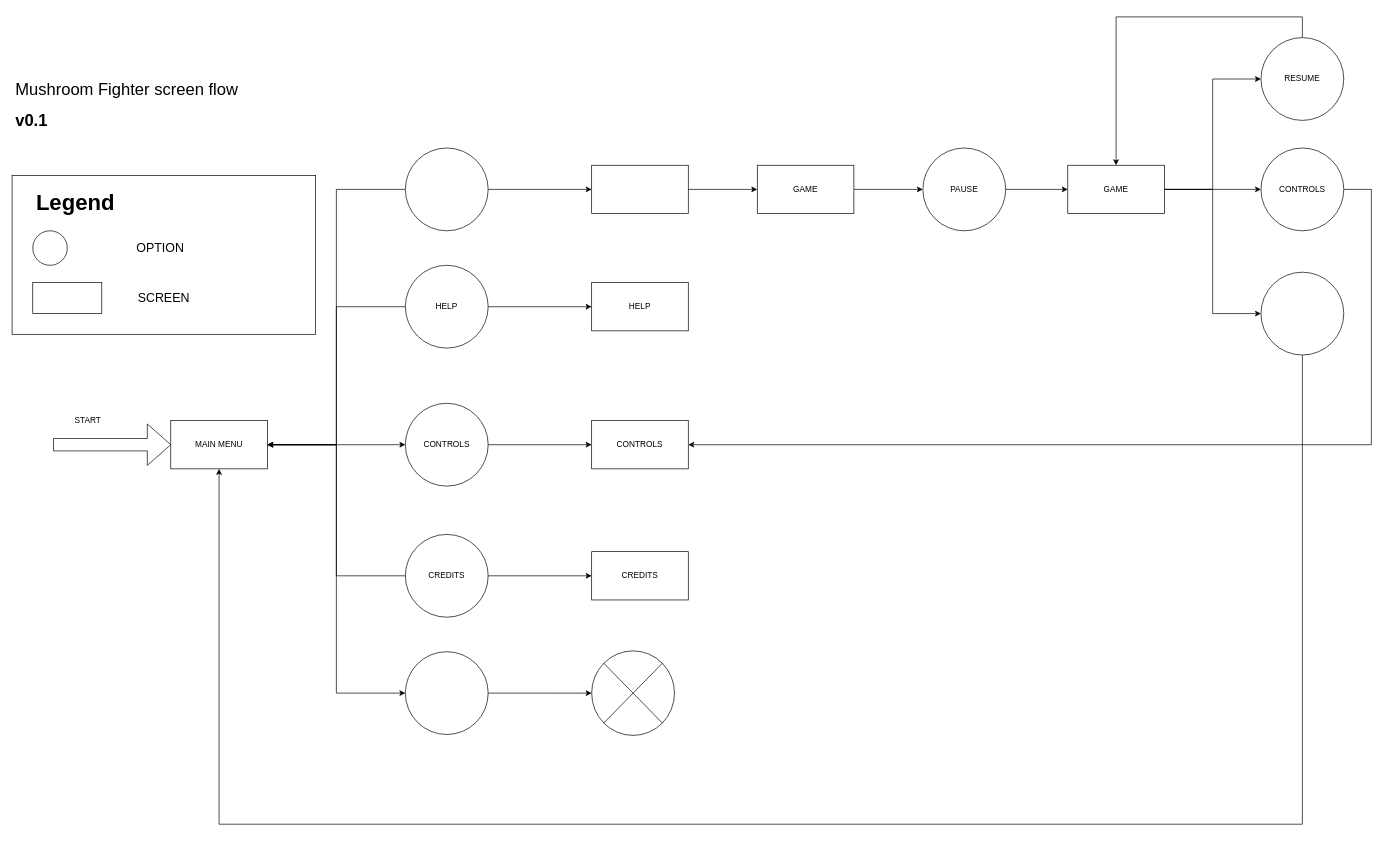
Image size: 1389x842. Some labels were removed from this diagram. Each missing label, with the box of its shape:
CHARACTER SELECT: (591, 165, 688, 214)
EXIT: (405, 651, 488, 735)
EXIT TO MAIN MENU: (1260, 272, 1344, 355)
PLAY: (405, 147, 488, 231)
